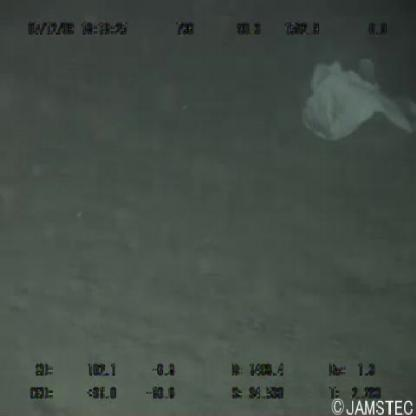Rác: (295, 48, 416, 154)
